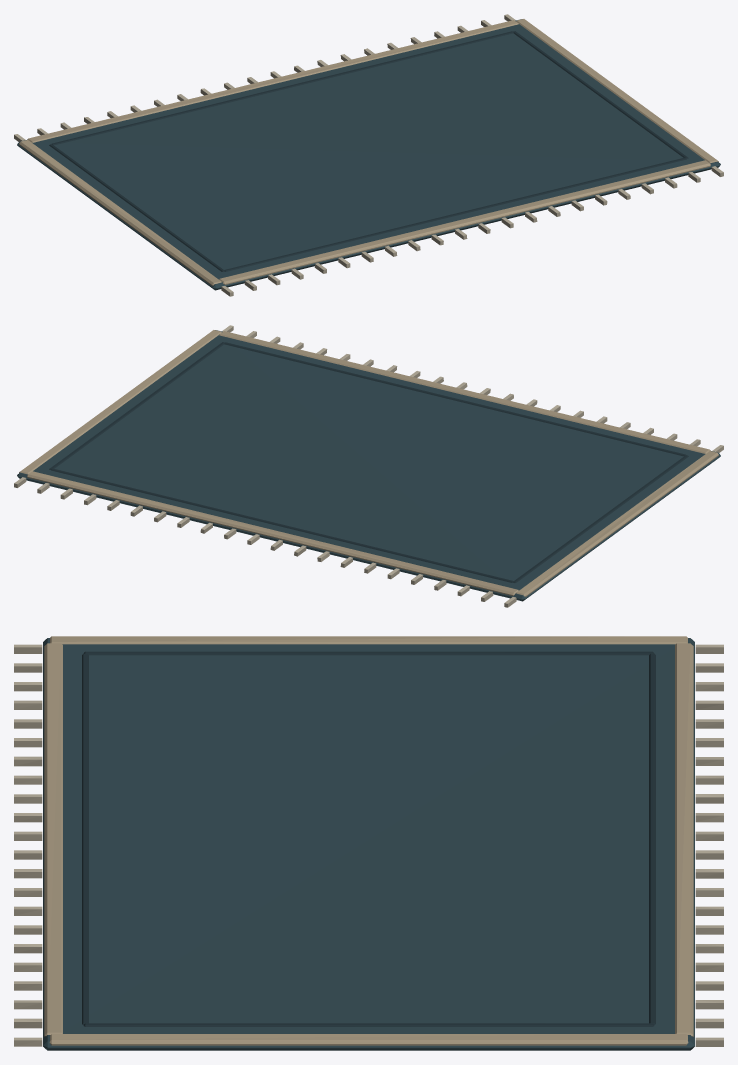
File: office_area_rug.glb
3 renders of one model, top to bottom at view 1: azimuth 30°, elevation 25°; view 2: azimuth 150°, elevation 25°; view 3: azimuth 270°, elevation 25°, orthographic. The views are drawn at different scales.
Visible parts, largest first — view 1: office_area_rug; view 2: office_area_rug; view 3: office_area_rug.
Part boxes in pixels (bbox=[...]): office_area_rug: bbox=[14, 14, 723, 296]; office_area_rug: bbox=[14, 325, 723, 607]; office_area_rug: bbox=[14, 636, 723, 1050].
Size of the model in its own units: 1.7 by 0.0215 by 1.25.
